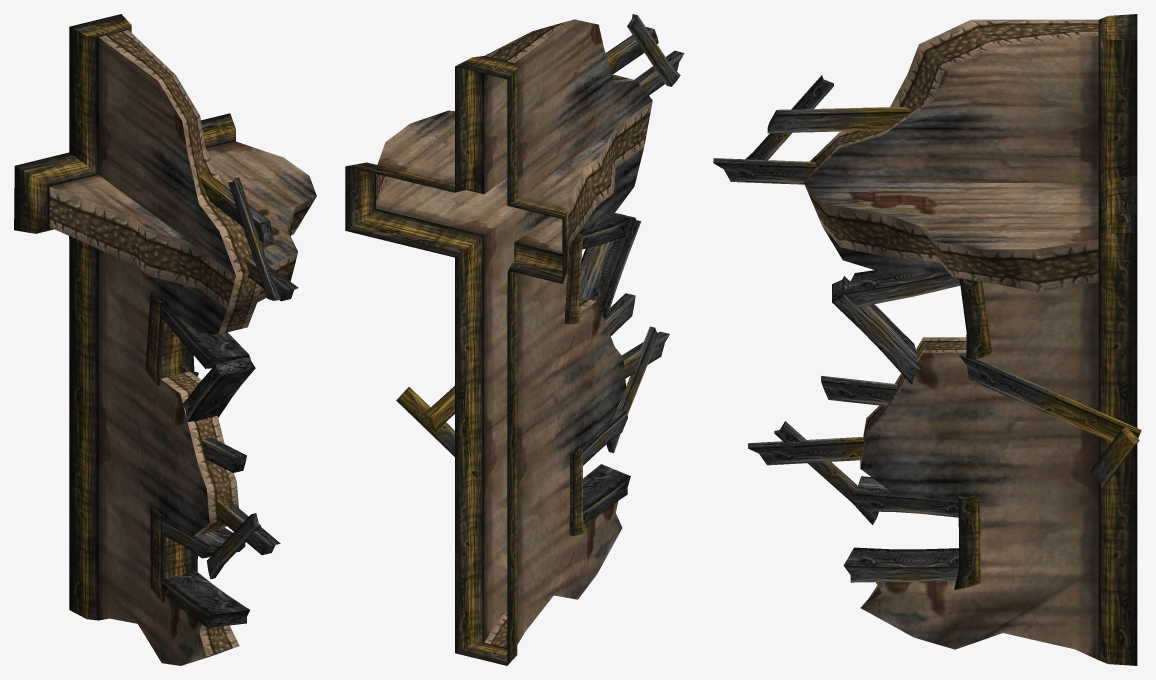
File: CB_BRKN_BUILDING03.fbx
3 renders of one model, left to right at view 1: azimuth 30°, elevation 25°; view 2: azimuth 150°, elevation 25°; view 3: azimuth 270°, elevation 25°, orthographic. The views are drawn at different scales.
Visible parts, largest first — view 1: CB_BRKN_BUILDING03; view 2: CB_BRKN_BUILDING03; view 3: CB_BRKN_BUILDING03.
Boxes of the visible parts, left/top/right/bottom form: CB_BRKN_BUILDING03: left=14, top=14, right=316, bottom=665; CB_BRKN_BUILDING03: left=345, top=14, right=684, bottom=665; CB_BRKN_BUILDING03: left=713, top=14, right=1141, bottom=665.
Bounding box in the file's own units: 149457 × 372380 × 231441.
6 materials, 6 textured.
